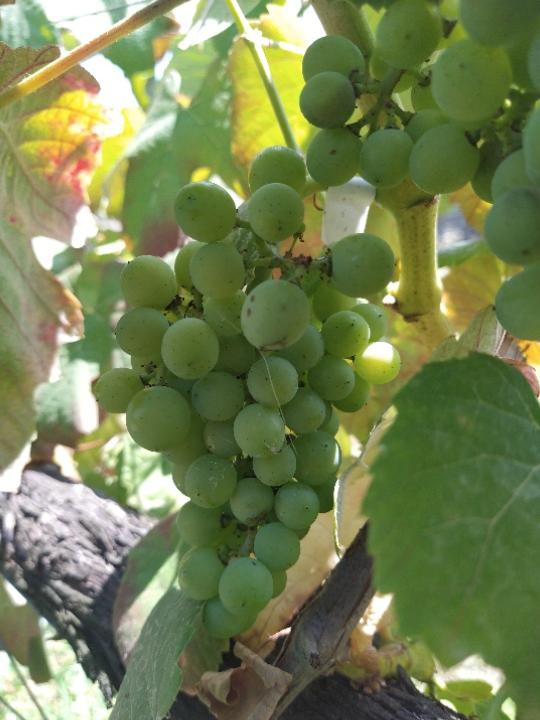grape: (91, 145, 399, 642)
